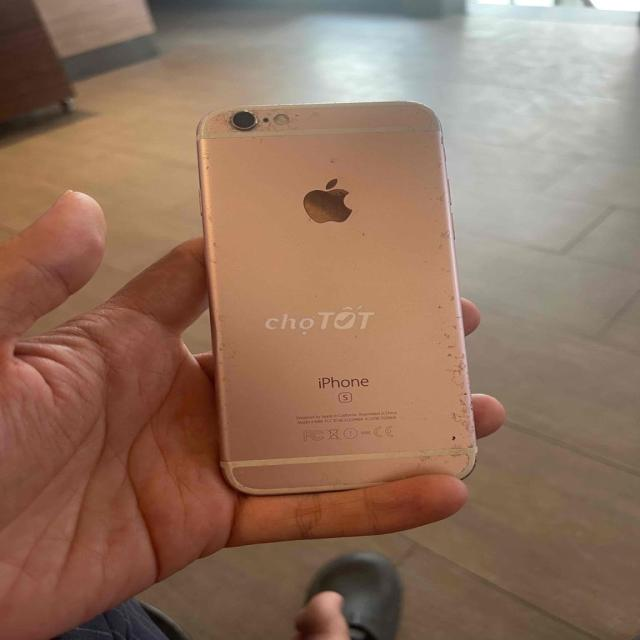gen_6: (198, 102, 477, 494)
scratch: (422, 175, 488, 475), (196, 298, 242, 424), (189, 96, 325, 135)
